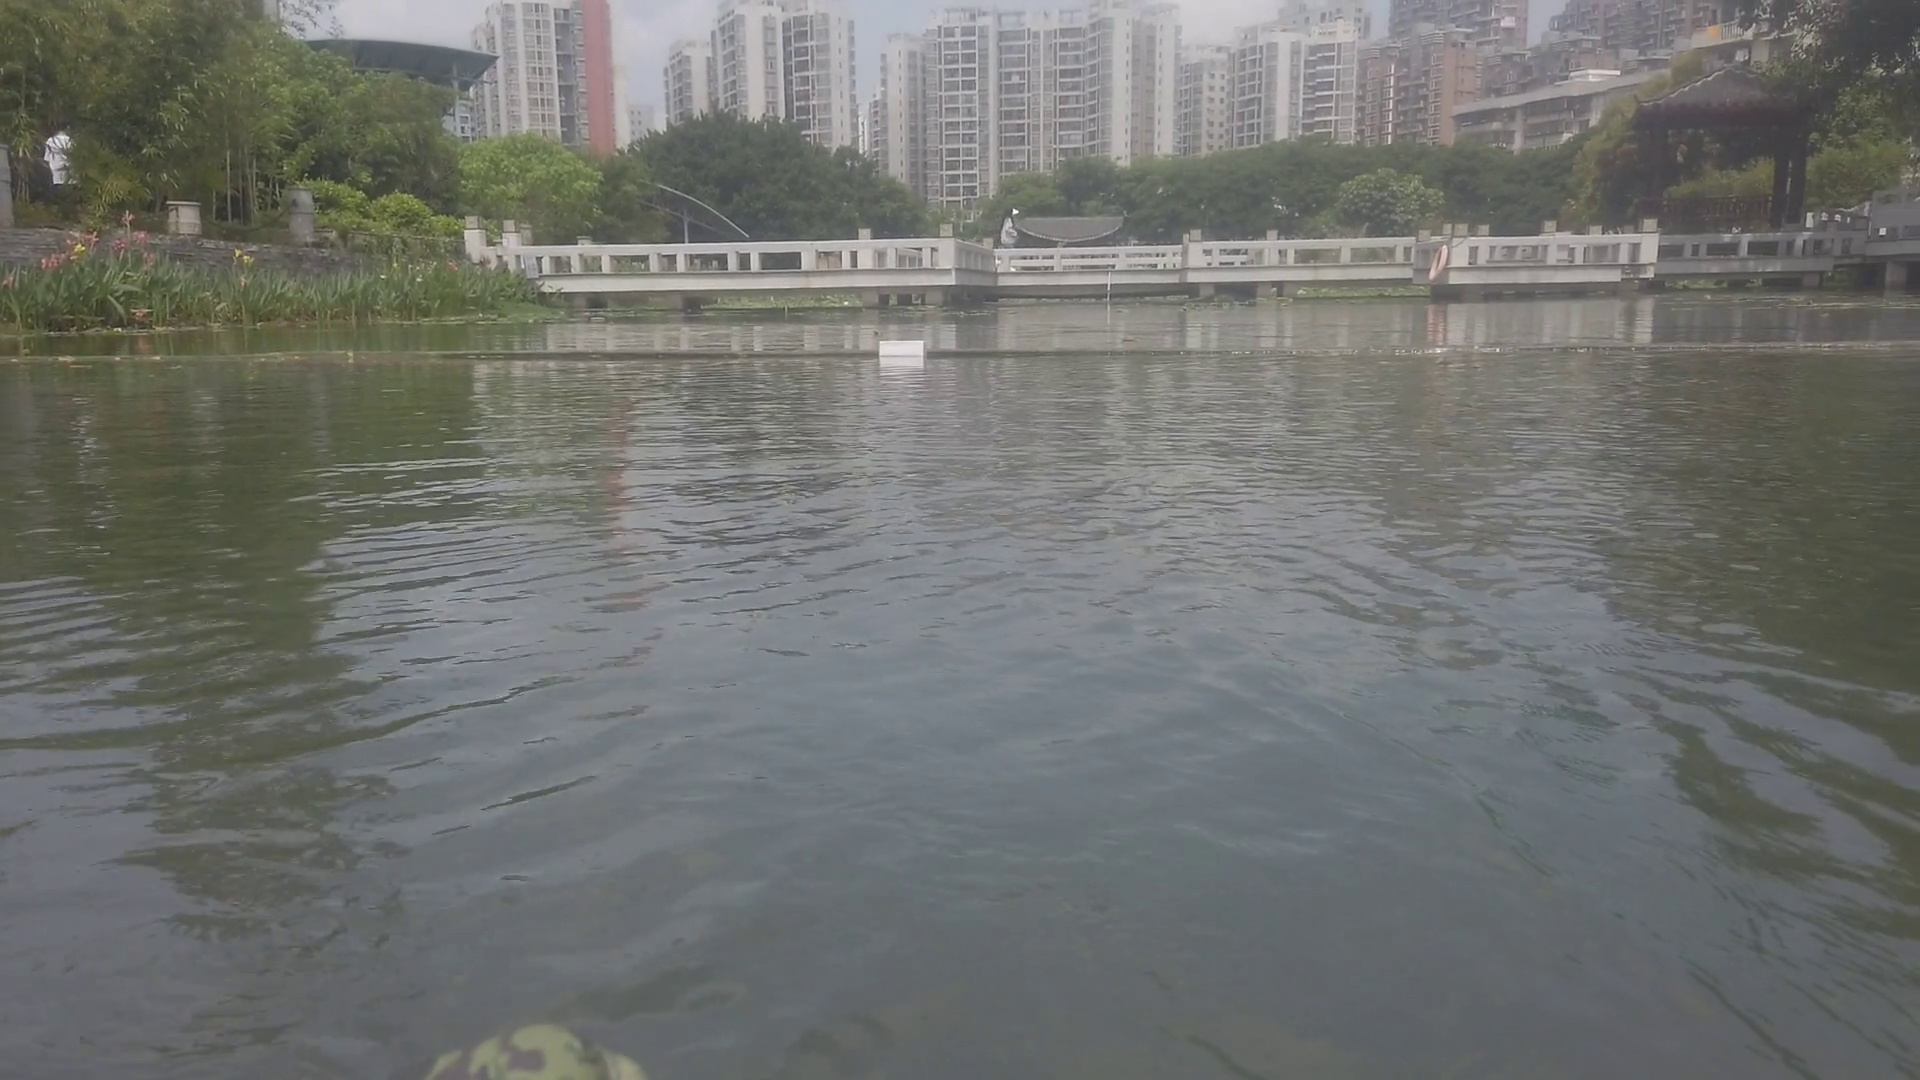carton: (874, 338, 928, 357)
